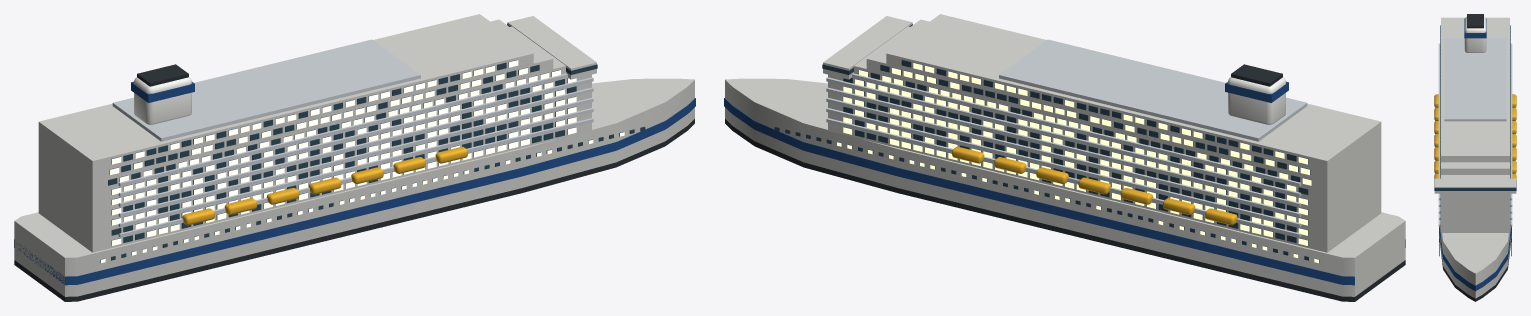
Rendered from opvangschip.glb.
3 views of the same model, side by side, from view 1: azimuth 30°, elevation 25°; view 2: azimuth 150°, elevation 25°; view 3: azimuth 270°, elevation 25° (orthographic). The views are drawn at different scales.
Parts seen in each view (by area): view 1: romp, dek8, zonnedek, streep, dek7, onderwater, dek6, dek0, balkon3-1, balkon2-1, balkon4-1, balkon5-1 (+31 smaller); view 2: romp, dek8, zonnedek, streep, dek7, onderwater, dek6, dek0, balkon21, balkon41, balkon31, balkon51 (+31 smaller); view 3: zonnedek, dek8, romp, brug, dek7, dek5, streep, schoorsteen, dek0, dek1, dek2, dek3 (+10 smaller).
Boxes of the visible parts, x1,y1,x2,y2 form: romp: (14,78,694,296); dek8: (38,14,533,171); zonnedek: (112,39,420,141); streep: (14,98,695,285); dek7: (38,19,553,181); onderwater: (14,119,694,301); dek6: (38,26,566,191); dek0: (38,122,591,252); balkon3-1: (118,97,593,217); balkon2-1: (118,108,593,227); balkon4-1: (118,87,593,206); balkon5-1: (118,77,593,196); romp: (725,78,1405,296); dek8: (886,14,1381,171); zonnedek: (999,39,1307,141); streep: (724,98,1405,285); dek7: (866,19,1381,181); onderwater: (725,119,1405,301); dek6: (853,26,1381,191); dek0: (828,122,1381,252); balkon21: (826,108,1301,227); balkon41: (826,87,1301,206); balkon31: (826,97,1301,217); balkon51: (826,77,1301,196); zonnedek: (1444,38,1506,121); dek8: (1441,17,1509,162); romp: (1439,226,1511,298); brug: (1434,178,1516,193); dek7: (1441,162,1509,174); dek5: (1441,193,1509,200); streep: (1439,227,1511,291); schoorsteen: (1464,16,1486,52); dek0: (1441,226,1509,232); dek1: (1441,220,1509,226); dek2: (1441,213,1509,219); dek3: (1441,207,1509,213).
Bounding box in the file's own units: 202 × 52.9 × 34.2.
